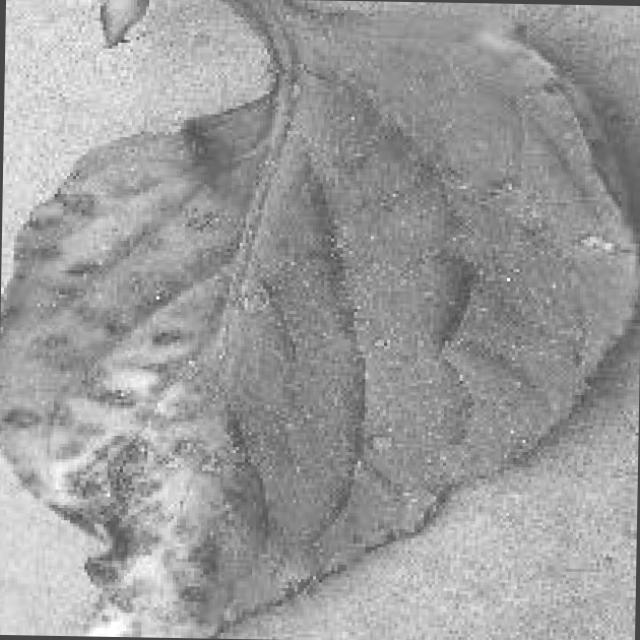bacterial spot: (0, 0, 640, 638)
